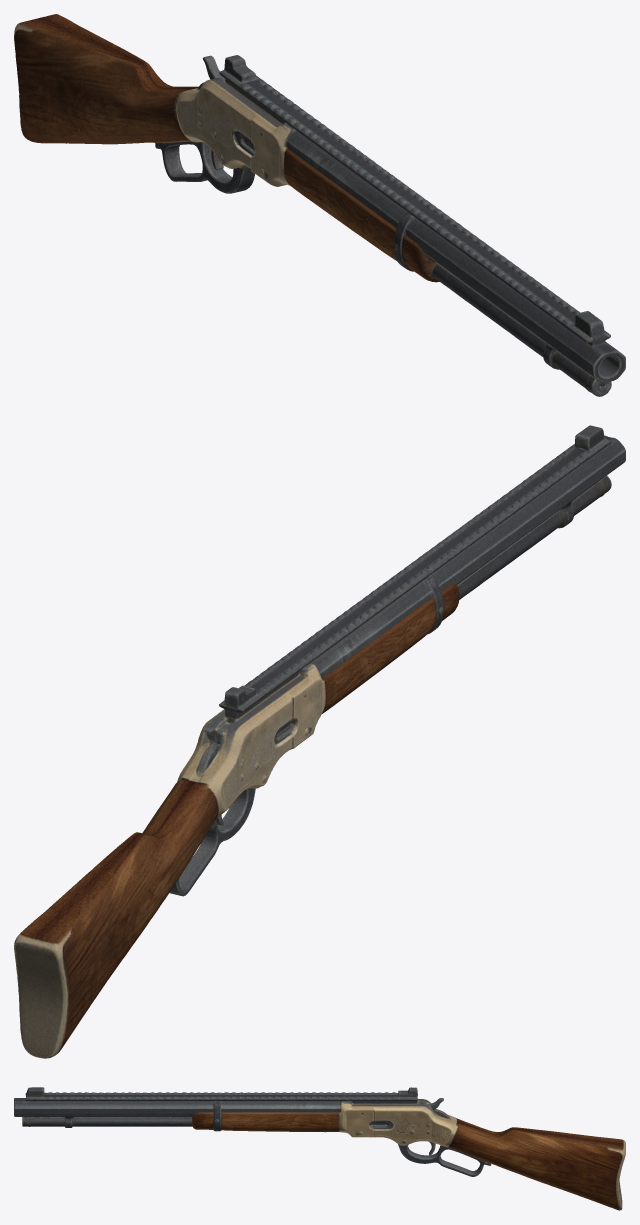
The model's file is lever_repeater.high.glb.
The picture shows the model from 3 angles, top to bottom: view 1: azimuth 30°, elevation 25°; view 2: azimuth 150°, elevation 25°; view 3: azimuth 270°, elevation 25°; orthographic projection. The views are drawn at different scales.
Parts seen in each view (by area): view 1: model; view 2: model; view 3: model.
Boxes of the visible parts, box(x1,y1,x2,y2) form: model: box(14, 14, 625, 396); model: box(14, 425, 625, 1058); model: box(14, 1087, 625, 1210).
Bounding box in the file's own units: 0.0522 × 0.2166 × 1.
Materials: 1 (1 with a texture image).
